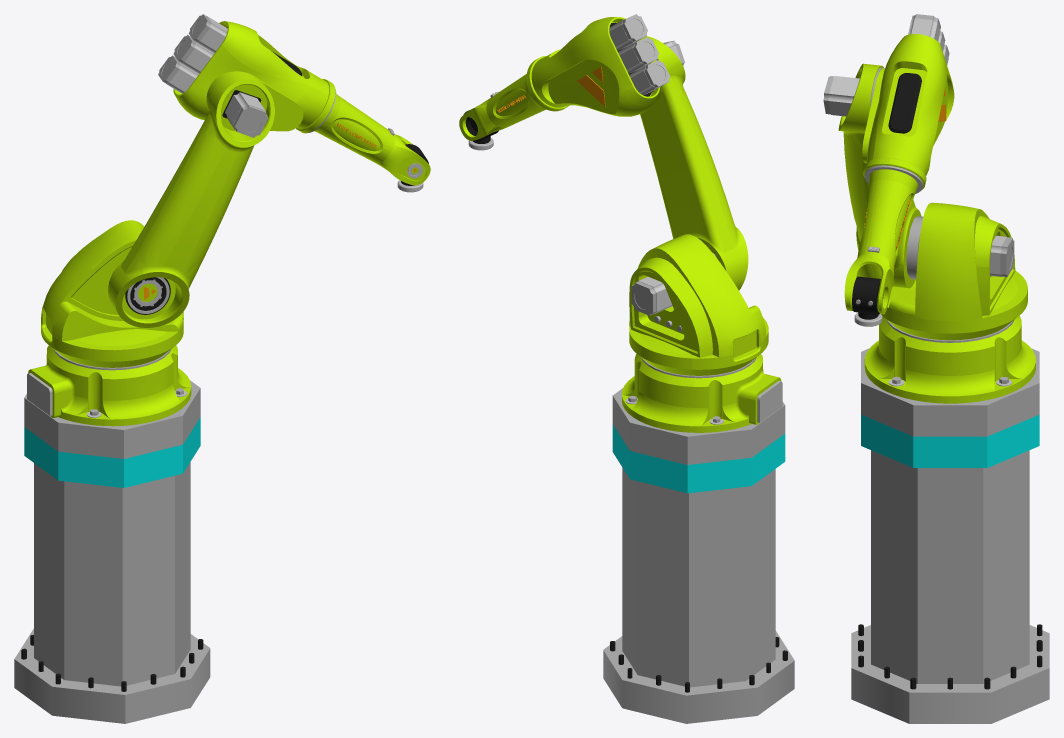
Rendered from Robot.glb.
3 renders of one model, left to right at view 1: azimuth 30°, elevation 25°; view 2: azimuth 150°, elevation 25°; view 3: azimuth 270°, elevation 25°, orthographic. The views are drawn at different scales.
Parts seen in each view (by area): view 1: Mesh [04ig], Mesh [04yg], Mesh [05Bg], Mesh [04pg], Mesh [04hg], Mesh [05Lg], Mesh [04jg], Mesh [05mg], Mesh [05Cg], Mesh [05Ag], Mesh [05gg], Mesh [05eg] (+3 smaller); view 2: Mesh [04ig], Mesh [04yg], Mesh [04pg], Mesh [04hg], Mesh [05Bg], Mesh [05Lg], Mesh [04jg], Mesh [05mg], Mesh [05Cg], Mesh [05gg], Mesh [05Ag], Mesh [05eg] (+2 smaller); view 3: Mesh [04ig], Mesh [04yg], Mesh [04pg], Mesh [04hg], Mesh [05Lg], Mesh [04jg], Mesh [05mg], Mesh [05gg], Mesh [05eg], Mesh [05Ag], Mesh [05Bg], Mesh [05Pg] (+10 smaller).
Boxes of the visible parts, x1=… form: Mesh [04ig]: x1=34, y1=462, x2=190, y2=686; Mesh [04yg]: x1=41, y1=220, x2=183, y2=367; Mesh [05Bg]: x1=136, y1=127, x2=252, y2=272; Mesh [04pg]: x1=28, y1=345, x2=191, y2=426; Mesh [04hg]: x1=14, y1=628, x2=210, y2=723; Mesh [05Lg]: x1=173, y1=21, x2=335, y2=133; Mesh [04jg]: x1=24, y1=380, x2=200, y2=458; Mesh [05mg]: x1=24, y1=417, x2=200, y2=487; Mesh [05Cg]: x1=108, y1=241, x2=197, y2=327; Mesh [05Ag]: x1=201, y1=74, x2=274, y2=151; Mesh [05gg]: x1=317, y1=96, x2=388, y2=159; Mesh [05eg]: x1=369, y1=129, x2=430, y2=185; Mesh [04ig]: x1=622, y1=468, x2=775, y2=687; Mesh [04yg]: x1=629, y1=234, x2=768, y2=375; Mesh [04pg]: x1=622, y1=353, x2=781, y2=432; Mesh [04hg]: x1=603, y1=631, x2=794, y2=723; Mesh [05Bg]: x1=640, y1=90, x2=731, y2=234; Mesh [05Lg]: x1=526, y1=17, x2=660, y2=116; Mesh [04jg]: x1=612, y1=388, x2=785, y2=464; Mesh [05mg]: x1=612, y1=424, x2=785, y2=493; Mesh [05Cg]: x1=672, y1=216, x2=748, y2=290; Mesh [05gg]: x1=491, y1=74, x2=545, y2=125; Mesh [05Ag]: x1=640, y1=36, x2=685, y2=99; Mesh [05eg]: x1=459, y1=95, x2=511, y2=140; Mesh [04ig]: x1=871, y1=450, x2=1029, y2=683; Mesh [04yg]: x1=881, y1=202, x2=1027, y2=340; Mesh [04pg]: x1=864, y1=315, x2=1035, y2=403; Mesh [04hg]: x1=851, y1=625, x2=1049, y2=723; Mesh [05Lg]: x1=862, y1=34, x2=954, y2=189; Mesh [04jg]: x1=861, y1=348, x2=1039, y2=436; Mesh [05mg]: x1=861, y1=414, x2=1039, y2=467; Mesh [05gg]: x1=858, y1=180, x2=914, y2=257; Mesh [05eg]: x1=844, y1=244, x2=896, y2=314; Mesh [05Ag]: x1=838, y1=63, x2=883, y2=146; Mesh [05Bg]: x1=843, y1=133, x2=868, y2=237; Mesh [05Pg]: x1=888, y1=73, x2=921, y2=133.
Size of the model in its own units: 0.9004 by 1.58 by 0.456.
